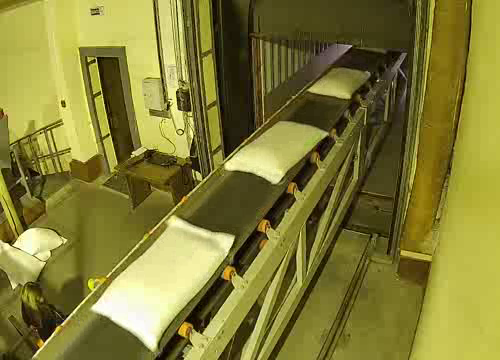bag: (84, 212, 252, 354), (217, 120, 330, 187), (304, 63, 375, 102), (352, 44, 392, 57)
